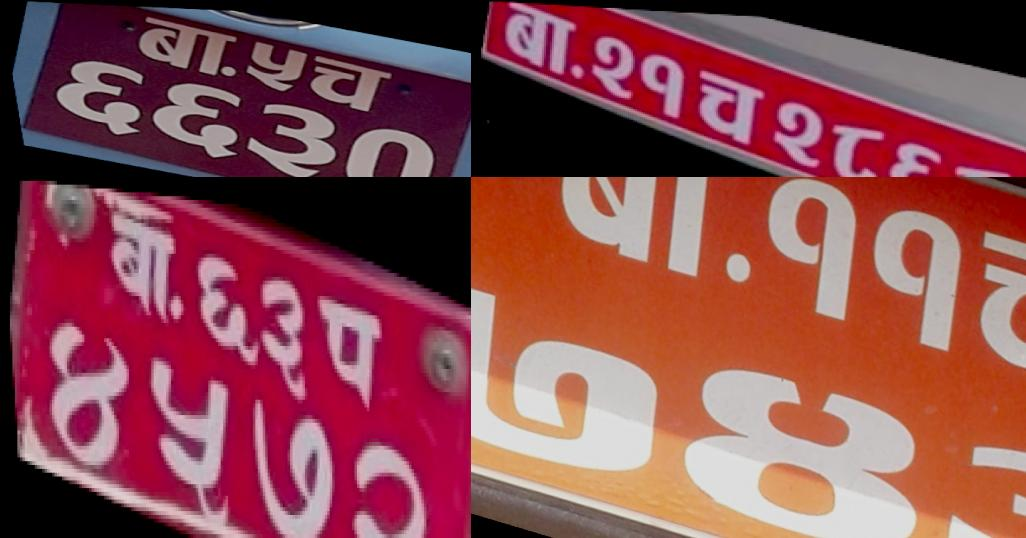0: (123, 12, 244, 77)
1: (837, 177, 992, 359), (722, 177, 892, 333), (618, 34, 701, 125)
2: (331, 421, 438, 538), (754, 82, 842, 171), (569, 22, 653, 107)
3: (898, 393, 1026, 538), (244, 256, 317, 389)
4: (636, 322, 947, 538), (26, 310, 144, 484), (35, 51, 163, 138), (131, 73, 256, 160)
5: (126, 345, 249, 524)
6: (182, 237, 263, 367), (870, 120, 962, 177), (232, 35, 311, 92)
7: (471, 245, 692, 504), (235, 380, 343, 538)
8: (808, 93, 902, 177), (927, 138, 1026, 177)
9: (294, 49, 396, 112)
ba: (521, 177, 752, 299), (226, 93, 353, 177), (97, 203, 184, 325), (483, 1, 589, 82)
cha: (938, 200, 1026, 395), (672, 58, 778, 149), (321, 114, 440, 177)
pa: (305, 279, 388, 401)
